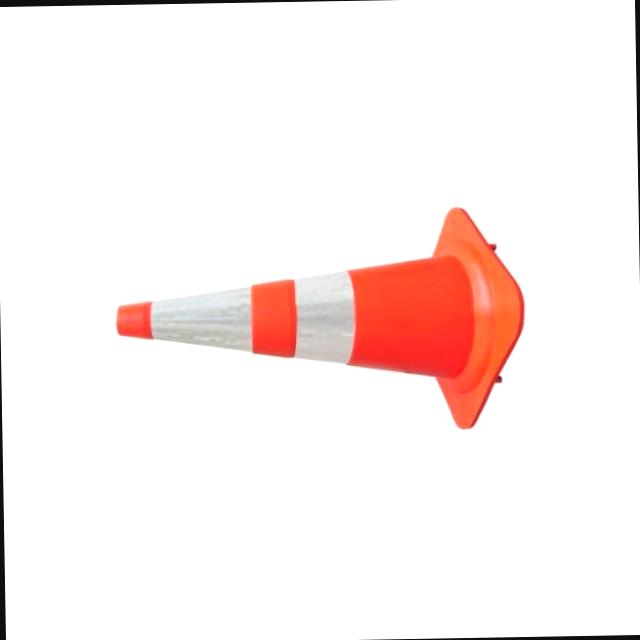cone: (94, 113, 557, 505)
